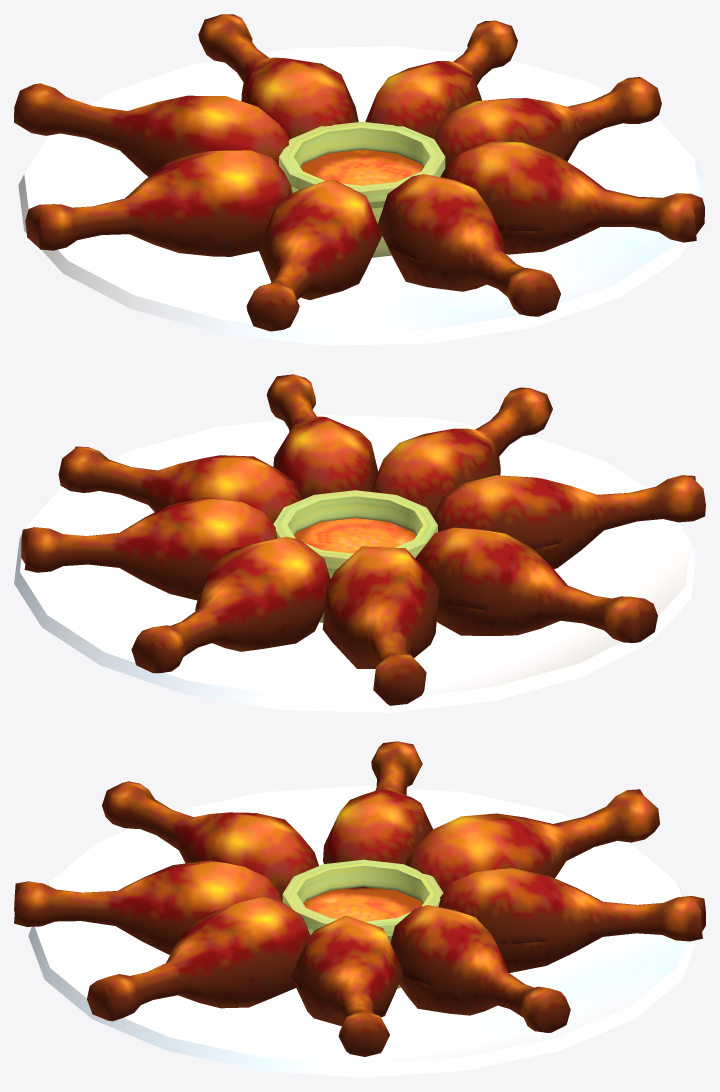
File: e0d7a429-0188-4092-aa97-5bbae9615f86.glb
3 views of the same model, one above another, from view 1: azimuth 30°, elevation 25°; view 2: azimuth 150°, elevation 25°; view 3: azimuth 270°, elevation 25° (orthographic). The views are drawn at different scales.
Parts seen in each view (by area): view 1: BarFoodAndSnacksChicken; view 2: BarFoodAndSnacksChicken; view 3: BarFoodAndSnacksChicken.
Part boxes in pixels (x1,y1,x2,y2): BarFoodAndSnacksChicken: (14,14,705,345); BarFoodAndSnacksChicken: (14,374,705,712); BarFoodAndSnacksChicken: (14,741,705,1077).
Size of what is drawn, in the model's own units: 0.4689 by 0.0872 by 0.4742.
Materials: 1 (1 with a texture image).
